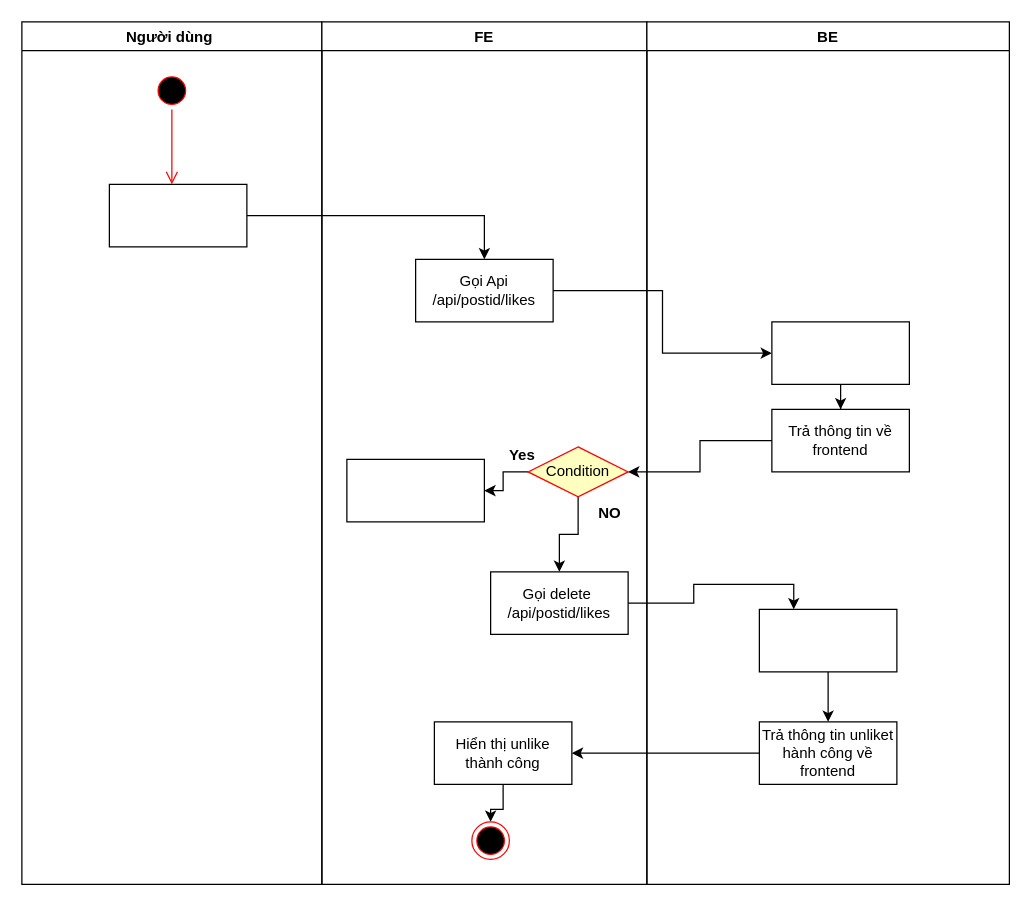
This 1031x906 diagram has some shape labels left out. Each missing label, with the box of its shape:
Hiển thị like thành công: (346, 458, 484, 522)
Kiểm tra thông tin trong DB: (771, 321, 909, 384)
Lưu vào DB: (758, 608, 897, 672)
Ấn nút like: (108, 183, 247, 247)
